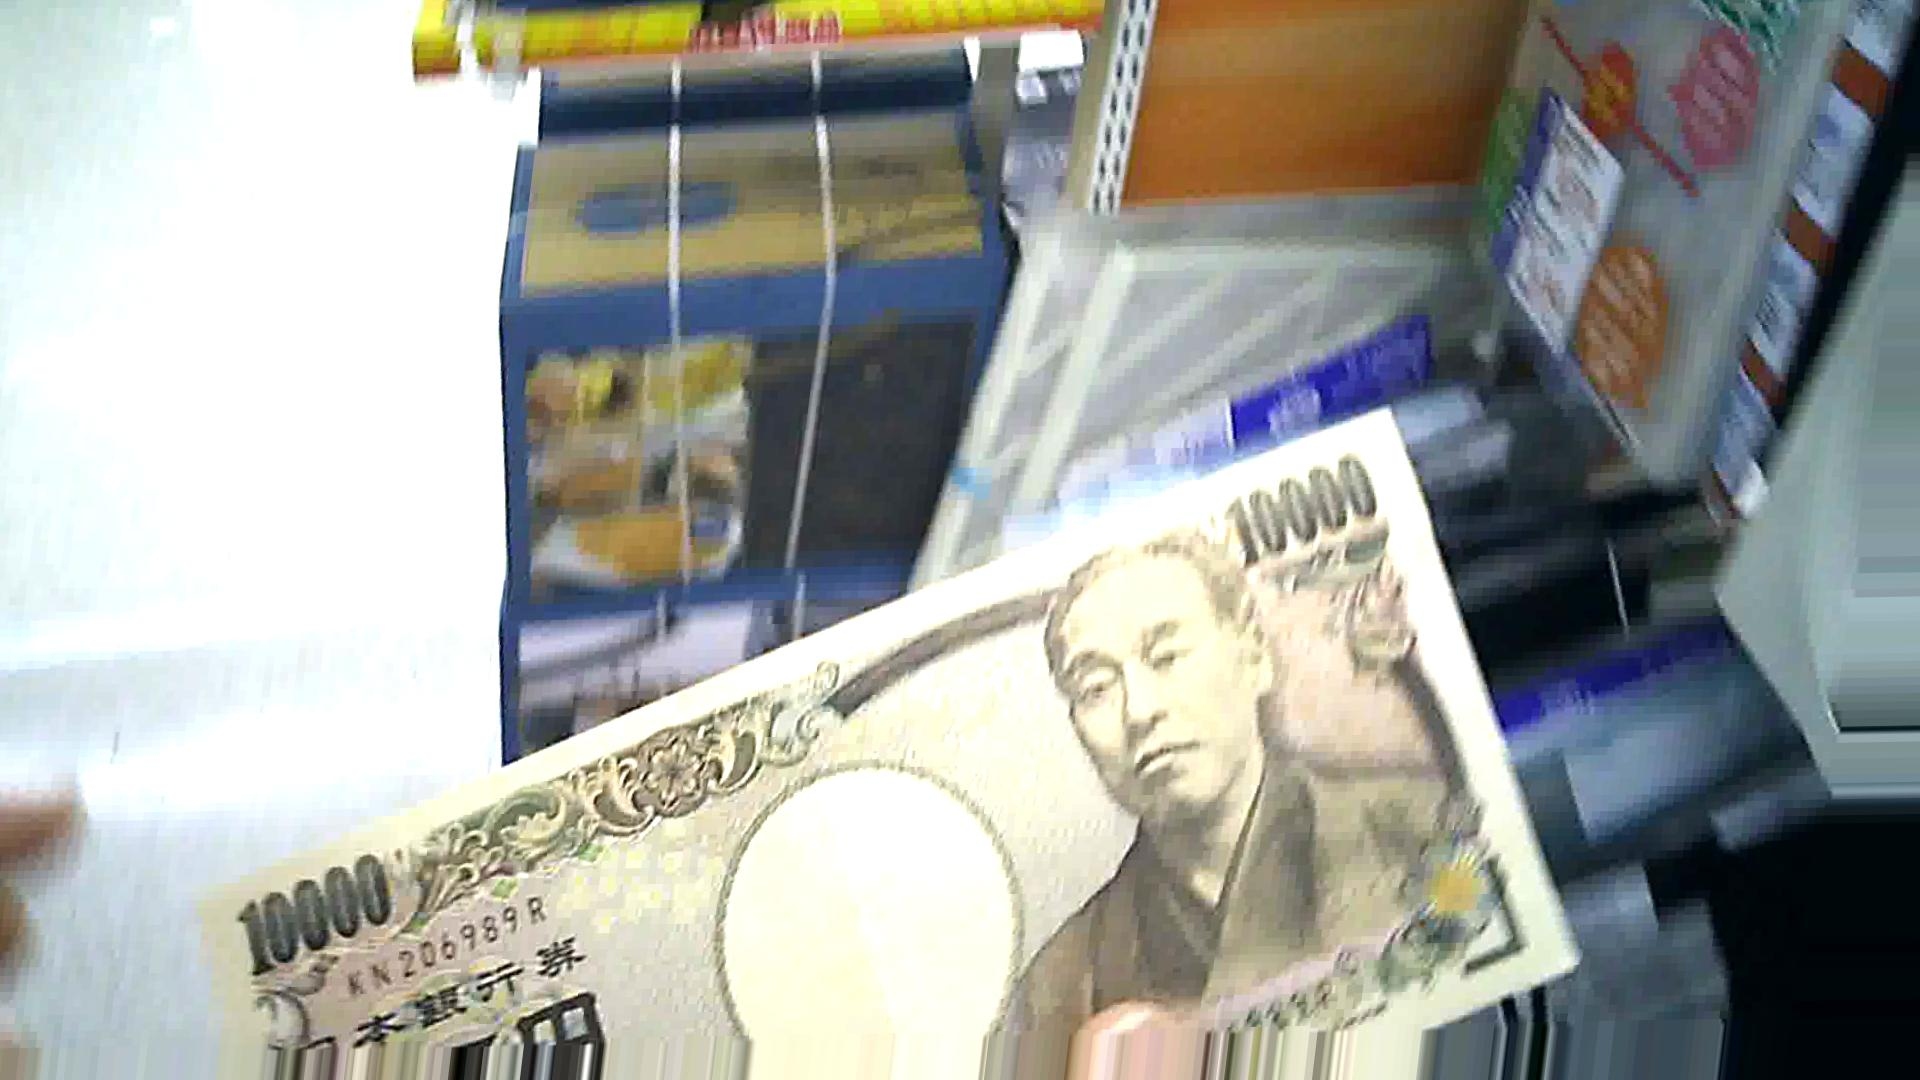10,000 Yen: (193, 451, 1571, 1055)
